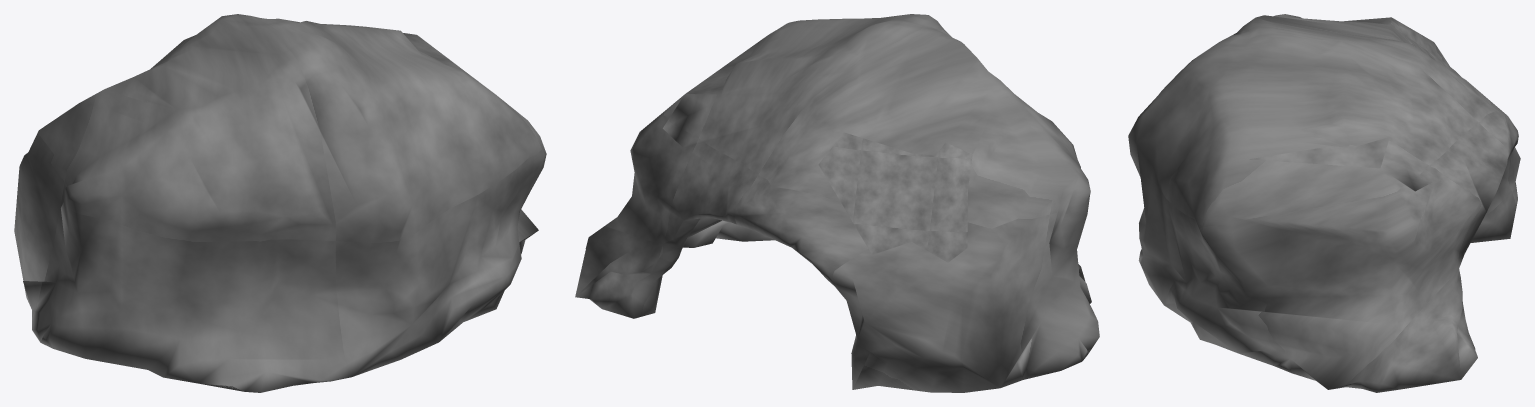
Rendered from CAVE.fbx.
3 renders of one model, left to right at view 1: azimuth 30°, elevation 25°; view 2: azimuth 150°, elevation 25°; view 3: azimuth 270°, elevation 25°, orthographic. The views are drawn at different scales.
Visible parts, largest first — view 1: Object_4; view 2: Object_4; view 3: Object_4.
Boxes of the visible parts, <box> form: Object_4: <box>14,14,546,392</box>; Object_4: <box>575,14,1099,392</box>; Object_4: <box>1128,14,1520,392</box>.
Bounding box in the file's own units: 2953 × 1497 × 2185.
Materials: 1 (1 with a texture image).
